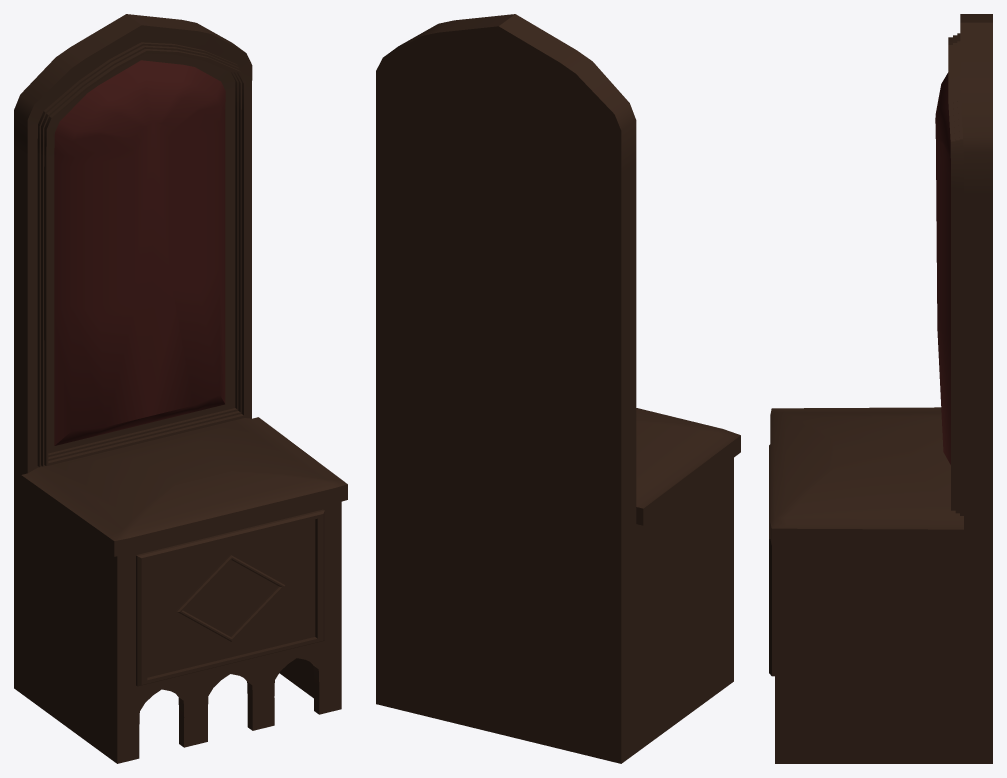
Rendered from Throne 1.fbx.
3 views of the same model, side by side, from view 1: azimuth 30°, elevation 25°; view 2: azimuth 150°, elevation 25°; view 3: azimuth 270°, elevation 25° (orthographic). The views are drawn at different scales.
Visible parts, largest first — view 1: Throne 1.003; view 2: Throne 1.003; view 3: Throne 1.003.
Part boxes in pixels (x1=…): Throne 1.003: x1=14, y1=14, x2=347, y2=763; Throne 1.003: x1=376, y1=14, x2=740, y2=763; Throne 1.003: x1=769, y1=14, x2=992, y2=763.
Size of the model in its own units: 168 by 439 by 130.
